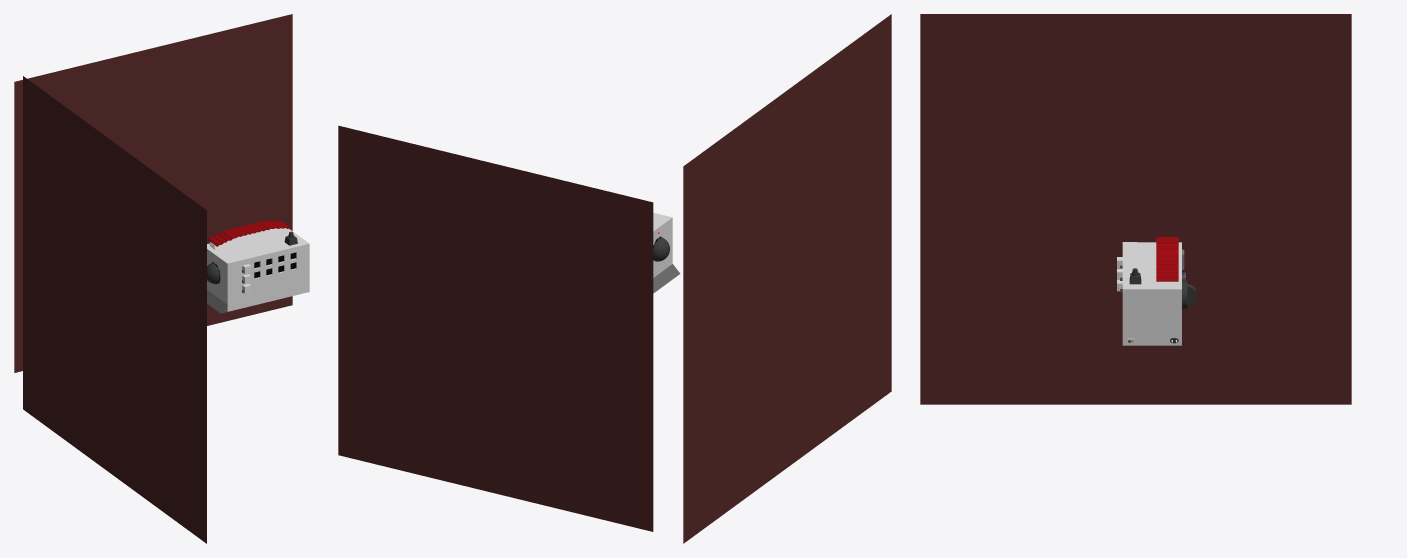
The model's file is camera.glb.
The picture shows the model from 3 angles, left to right: view 1: azimuth 30°, elevation 25°; view 2: azimuth 150°, elevation 25°; view 3: azimuth 270°, elevation 25°; orthographic projection. The views are drawn at different scales.
Parts seen in each view (by area): view 1: Plane.003, Plane.002, Cube, Plane.001; view 2: Plane.002, Plane.003, Cube; view 3: Plane.003, Cube, Plane.001.
Part boxes in pixels (bbox=[...]): Plane.003: bbox=[23, 76, 206, 543]; Plane.002: bbox=[14, 14, 292, 372]; Cube: bbox=[207, 228, 309, 311]; Plane.001: bbox=[208, 220, 291, 246]; Plane.002: bbox=[338, 125, 653, 531]; Plane.003: bbox=[683, 14, 891, 543]; Cube: bbox=[653, 212, 675, 289]; Plane.003: bbox=[920, 14, 1351, 404]; Cube: bbox=[1122, 242, 1181, 345]; Plane.001: bbox=[1156, 237, 1178, 281].
Size of the model in its own units: 13.13 by 14.57 by 15.96.
